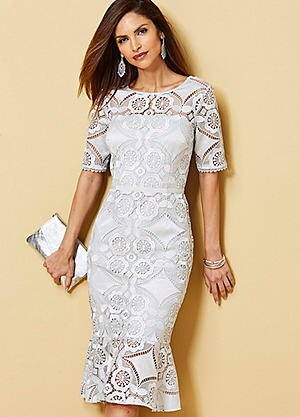C_dress: (76, 80, 232, 398)
